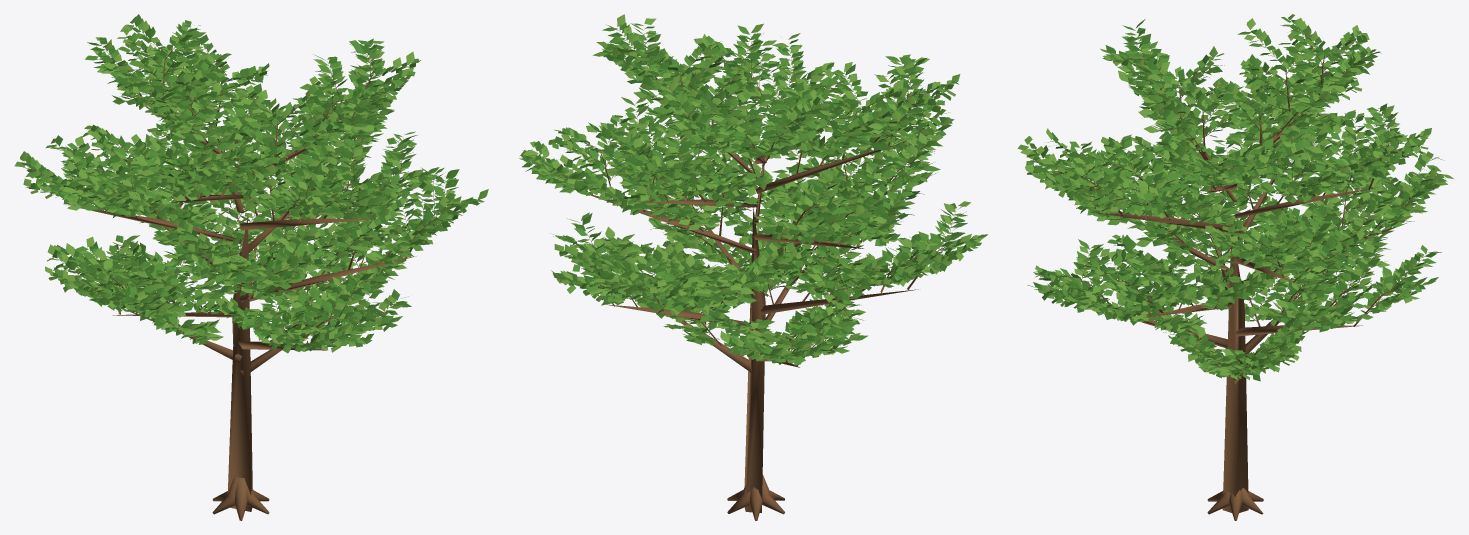
The model's file is oak.glb.
The picture shows the model from 3 angles, left to right: view 1: azimuth 30°, elevation 25°; view 2: azimuth 150°, elevation 25°; view 3: azimuth 270°, elevation 25°; orthographic projection. The views are drawn at different scales.
Visible parts, largest first — view 1: Foliage 1, Foliage 2, Foliage 0, Trunk, Scaffold branch.010, Scaffold branch.005, Scaffold branch.009; view 2: Foliage 2, Foliage 1, Foliage 0, Trunk, Scaffold branch.012, Scaffold branch.004, Scaffold branch.008; view 3: Foliage 2, Foliage 1, Foliage 0, Trunk, Scaffold branch.010, Scaffold branch.011.
Part boxes in pixels (x1,y1,x2,y2): Foliage 1: (14,18,488,353); Foliage 2: (20,16,484,352); Foliage 0: (24,14,479,351); Trunk: (227,215,252,511); Scaffold branch.010: (240,218,375,230); Scaffold branch.005: (240,256,416,302); Scaffold branch.009: (68,205,241,243); Foliage 2: (519,14,983,363); Foliage 1: (522,23,987,365); Foliage 0: (522,22,976,364); Trunk: (744,208,765,512); Scaffold branch.012: (755,144,898,193); Scaffold branch.004: (761,289,918,314); Scaffold branch.008: (590,194,756,253); Foliage 2: (1020,14,1453,379); Foliage 1: (1017,17,1447,378); Foliage 0: (1026,19,1445,381); Trunk: (1222,225,1248,512); Scaffold branch.010: (1088,211,1236,232); Scaffold branch.011: (1234,187,1378,218).
Size of the model in its own units: 7.76 by 8.61 by 7.64.
